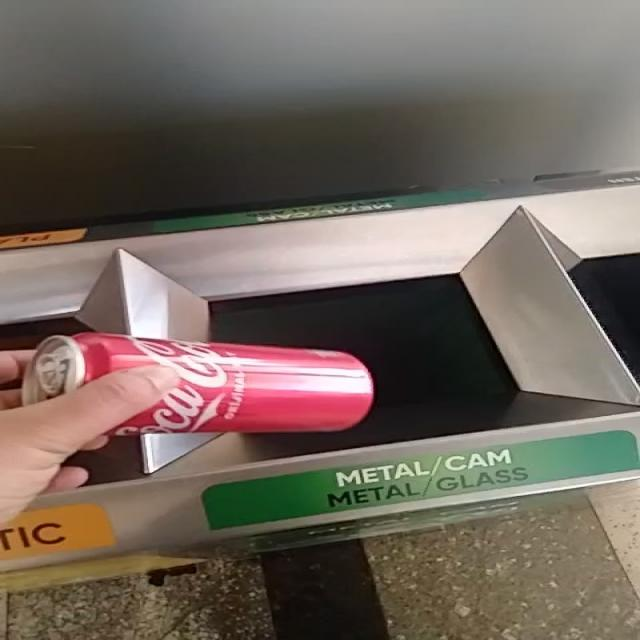bin: (3, 186, 640, 570)
metal: (23, 333, 373, 436)
